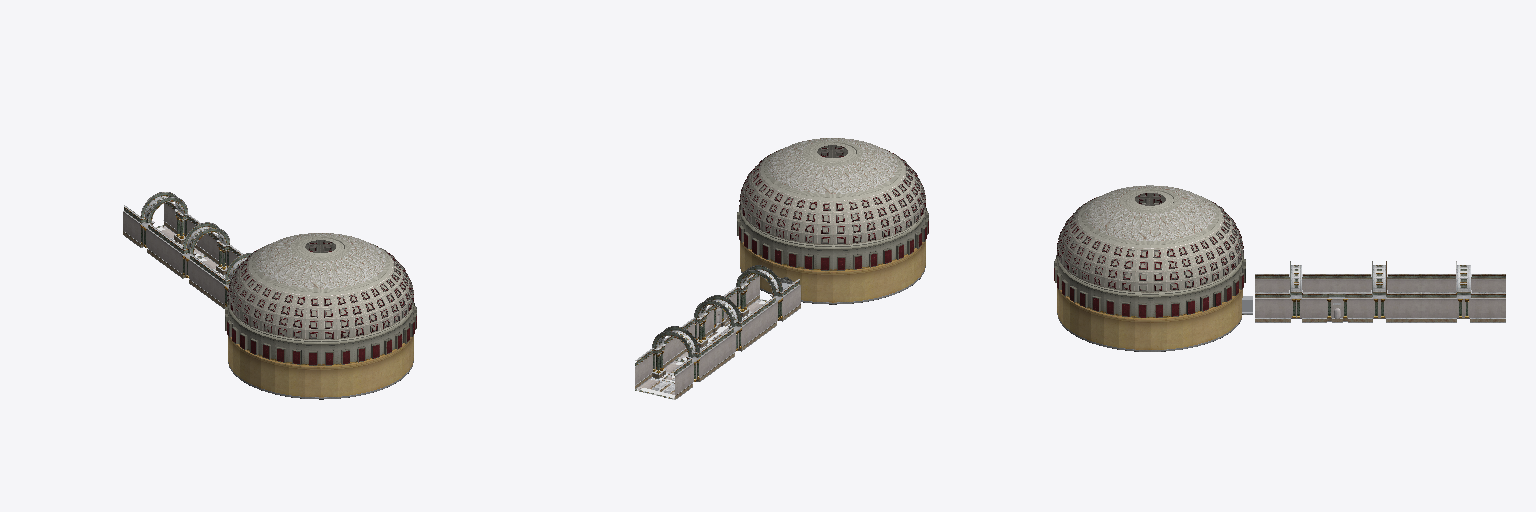
3 renders of one model, left to right at view 1: azimuth 30°, elevation 25°; view 2: azimuth 150°, elevation 25°; view 3: azimuth 270°, elevation 25°, orthographic.
Parts seen in each view (by area): view 1: Spawn_Dach_Segment009, Spawn_Wand_Standart_Segment011, Gang_Wand_Standart014, Gang_Wand_Standart017, Gang_Wand_Standart005, Gang_Wand_Standart016, Gang_Wand_Standart006; view 2: Spawn_Dach_Segment009, Spawn_Wand_Standart_Segment011, Gang_Wand_Standart007, Gang_Wand_Standart006, Gang_Wand_Standart009, Gang_Wand_Standart014, Gang_Wand_Standart016, Gang_Wand_Standart017, Gang_Wand_Standart005; view 3: Spawn_Dach_Segment009, Spawn_Wand_Standart_Segment011, Gang_Wand_Standart008, Gang_Wand_Standart015, Gang_Wand_Standart007, Gang_Wand_Standart004, Gang_Wand_Statue001, Gang_Wand_Statue002, Gang_Wand_Standart006, Gang_Wand_Standart009, Gang_Wand_Standart014, Gang_Wand_Standart016 (+2 smaller).
Boxes of the visible parts, x1=… form: Spawn_Dach_Segment009: x1=225, y1=233, x2=416, y2=367; Spawn_Wand_Standart_Segment011: x1=228, y1=336, x2=413, y2=399; Gang_Wand_Standart014: x1=165, y1=236, x2=183, y2=278; Gang_Wand_Standart017: x1=207, y1=267, x2=225, y2=308; Gang_Wand_Standart005: x1=147, y1=224, x2=165, y2=264; Gang_Wand_Standart016: x1=189, y1=254, x2=208, y2=295; Gang_Wand_Standart006: x1=123, y1=205, x2=141, y2=246; Spawn_Dach_Segment009: x1=737, y1=138, x2=928, y2=272; Spawn_Wand_Standart_Segment011: x1=740, y1=241, x2=925, y2=304; Gang_Wand_Standart007: x1=635, y1=349, x2=671, y2=394; Gang_Wand_Standart006: x1=656, y1=358, x2=692, y2=399; Gang_Wand_Standart009: x1=782, y1=279, x2=800, y2=320; Gang_Wand_Standart014: x1=716, y1=327, x2=734, y2=368; Gang_Wand_Standart016: x1=741, y1=309, x2=759, y2=350; Gang_Wand_Standart017: x1=758, y1=296, x2=776, y2=337; Gang_Wand_Standart005: x1=699, y1=340, x2=716, y2=381; Spawn_Dach_Segment009: x1=1054, y1=185, x2=1245, y2=319; Spawn_Wand_Standart_Segment011: x1=1057, y1=288, x2=1252, y2=351; Gang_Wand_Standart008: x1=1255, y1=292, x2=1290, y2=322; Gang_Wand_Standart015: x1=1386, y1=292, x2=1421, y2=322; Gang_Wand_Standart007: x1=1470, y1=292, x2=1505, y2=322; Gang_Wand_Standart004: x1=1422, y1=292, x2=1456, y2=322; Gang_Wand_Statue001: x1=1337, y1=292, x2=1372, y2=322; Gang_Wand_Statue002: x1=1302, y1=292, x2=1336, y2=322; Gang_Wand_Standart006: x1=1471, y1=274, x2=1505, y2=291; Gang_Wand_Standart009: x1=1255, y1=274, x2=1289, y2=291; Gang_Wand_Standart014: x1=1387, y1=274, x2=1421, y2=291; Gang_Wand_Standart016: x1=1337, y1=274, x2=1371, y2=291.
Size of the model in its own units: 33.5 by 21.8 by 78.62.
Materials: 7 (7 with a texture image).